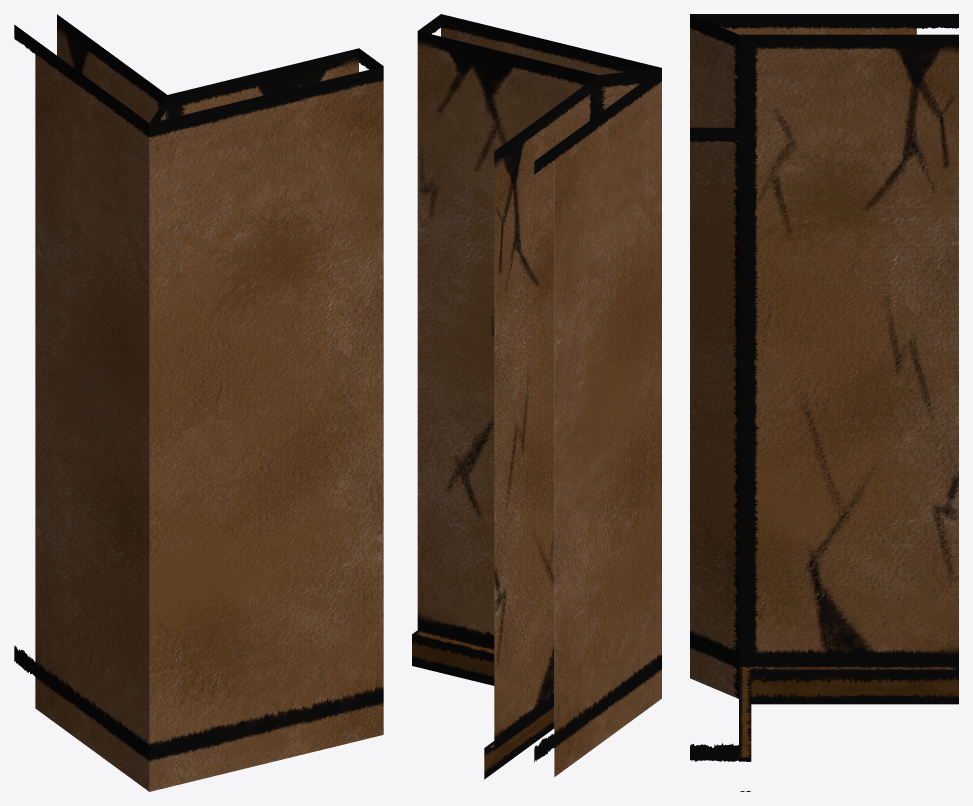
File: InnerWall.fbx
3 renders of one model, left to right at view 1: azimuth 30°, elevation 25°; view 2: azimuth 150°, elevation 25°; view 3: azimuth 270°, elevation 25°, orthographic. The views are drawn at different scales.
Visible parts, largest first — view 1: InnerCornerWall.001; view 2: InnerCornerWall.001; view 3: InnerCornerWall.001.
Boxes of the visible parts, x1,y1,x2,y2 form: InnerCornerWall.001: (14,14,383,791); InnerCornerWall.001: (412,14,661,779); InnerCornerWall.001: (690,14,958,791).
Bounding box in the file's own units: 110 × 300 × 110.
Materials: 1 (1 with a texture image).
